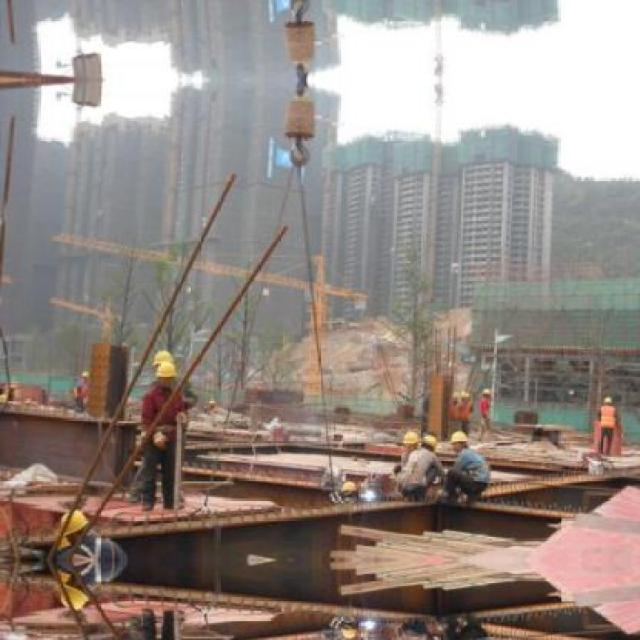helmet: (56, 506, 95, 549), (56, 571, 95, 614), (399, 426, 423, 457), (446, 428, 471, 454), (154, 361, 178, 387), (421, 429, 441, 457)
